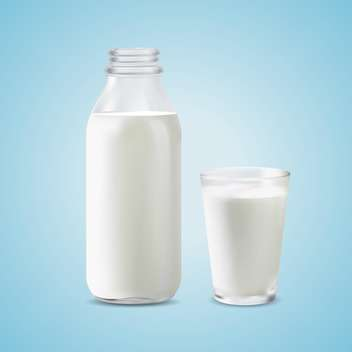glass of milk: (79, 46, 193, 310), (199, 161, 293, 309)
